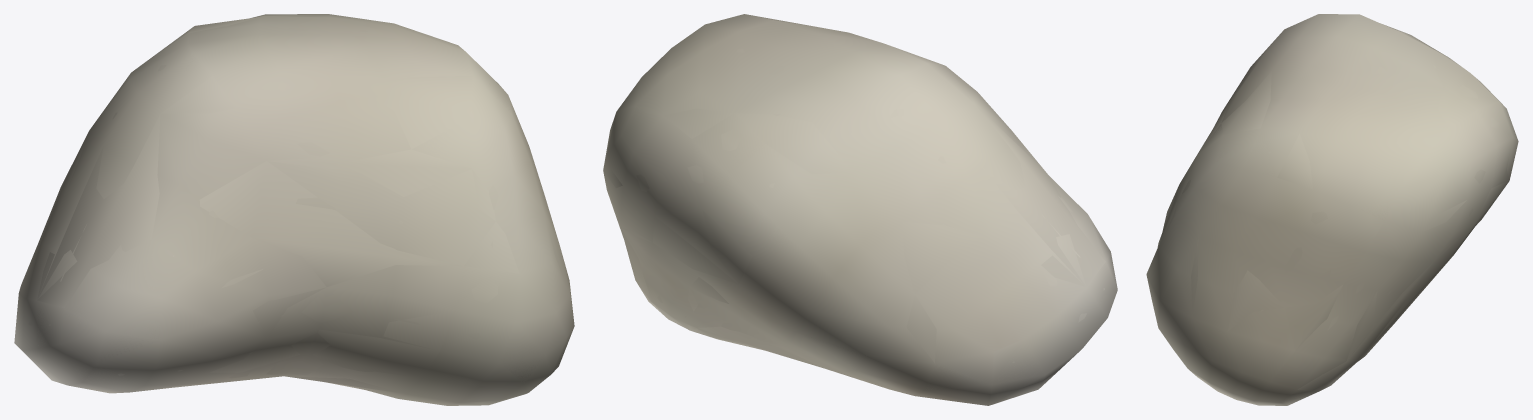
File: R carpale quartum.fbx
3 views of the same model, side by side, from view 1: azimuth 30°, elevation 25°; view 2: azimuth 150°, elevation 25°; view 3: azimuth 270°, elevation 25° (orthographic). The views are drawn at different scales.
Parts seen in each view (by area): view 1: R carpale quartum, R carpale quartum low, R carpale quartum high; view 2: R carpale quartum, R carpale quartum low, R carpale quartum high; view 3: R carpale quartum, R carpale quartum low, R carpale quartum high.
Part boxes in pixels (bbox=[...]): R carpale quartum: bbox=[14, 14, 574, 405]; R carpale quartum low: bbox=[37, 14, 573, 405]; R carpale quartum high: bbox=[28, 25, 498, 402]; R carpale quartum: bbox=[603, 14, 1117, 405]; R carpale quartum low: bbox=[603, 14, 1116, 404]; R carpale quartum high: bbox=[635, 48, 1104, 362]; R carpale quartum: bbox=[1146, 14, 1518, 405]; R carpale quartum low: bbox=[1150, 51, 1518, 401]; R carpale quartum high: bbox=[1157, 24, 1499, 374].
Bounding box in the file's own units: 0.4332 × 0.2971 × 0.3429.
1 material, 1 textured.
